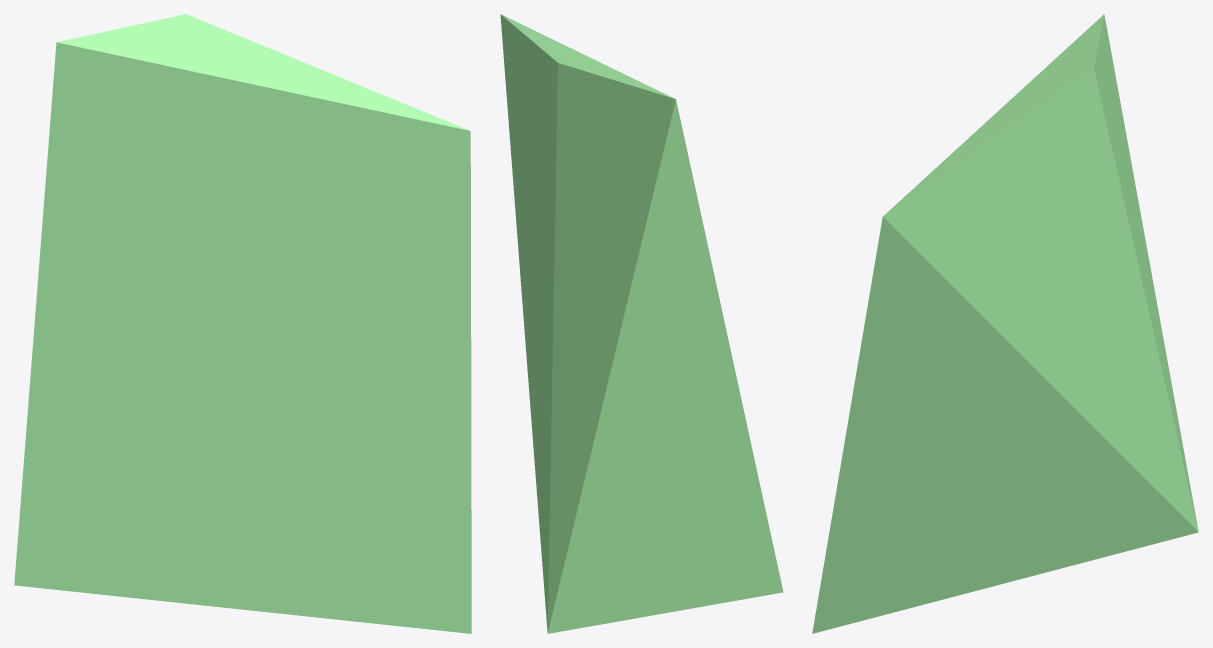
File: UMIRobot_UMIRobot_link_3_convex_coll_15.dae
3 views of the same model, side by side, from view 1: azimuth 30°, elevation 25°; view 2: azimuth 150°, elevation 25°; view 3: azimuth 270°, elevation 25° (orthographic). The views are drawn at different scales.
Parts seen in each view (by area): view 1: node; view 2: node; view 3: node.
Part boxes in pixels (box(x1,y1,x2,y2)): node: box(14, 14, 471, 633); node: box(500, 14, 783, 633); node: box(812, 14, 1198, 633).
Size of the model in its own units: 0.00735 by 0.0103 by 0.00713.
